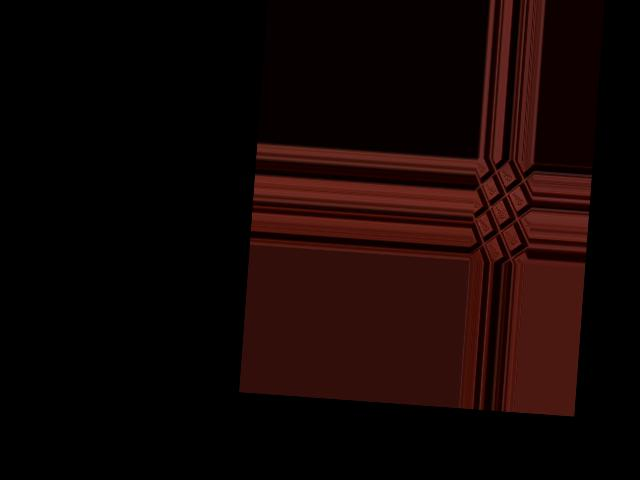chocolate: (471, 160, 535, 265)
